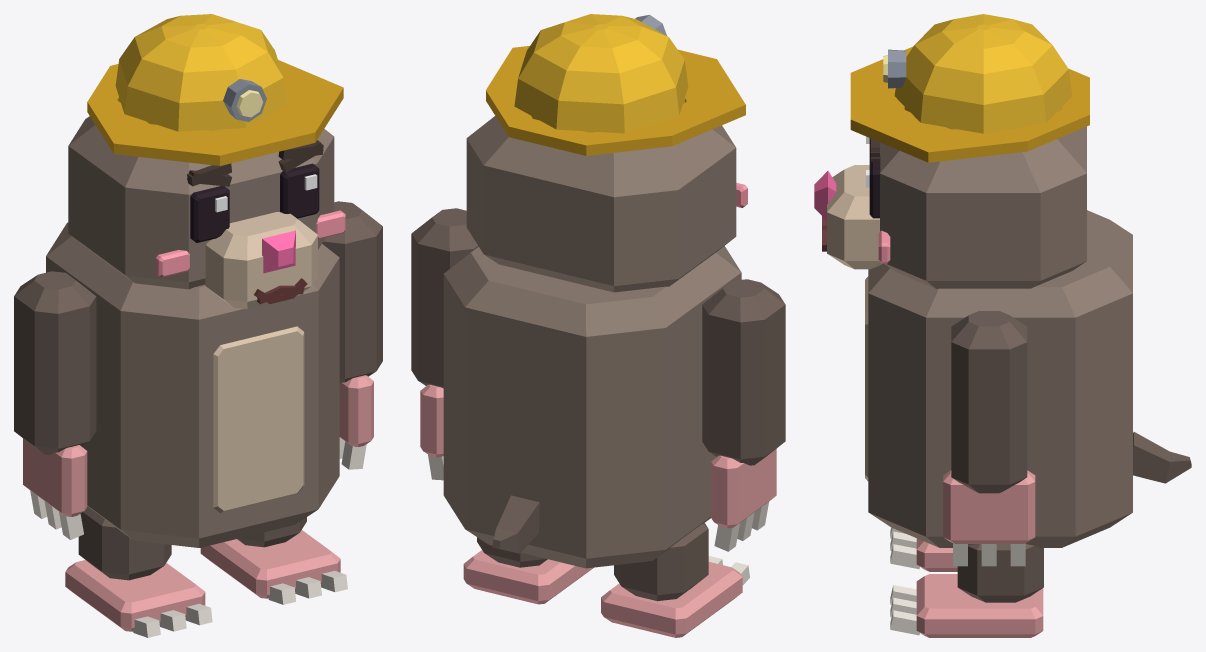
File: w3_secretenemy_gemmole.fbx
3 views of the same model, side by side, from view 1: azimuth 30°, elevation 25°; view 2: azimuth 150°, elevation 25°; view 3: azimuth 270°, elevation 25° (orthographic).
Parts seen in each view (by area): view 1: GemMole.Torso, GemMole.Head, GemMole.Belly, GemMole.Hat, GemMole.RightArm, GemMole.Brim, GemMole.LeftArm, GemMole.Snout, GemMole.RightFoot, GemMole.LeftFoot, GemMole.RightLeg, GemMole.RightPaw (+13 smaller); view 2: GemMole.Torso, GemMole.Head, GemMole.Hat, GemMole.RightArm, GemMole.Brim, GemMole.LeftArm, GemMole.RightFoot, GemMole.RightLeg, GemMole.LeftFoot, GemMole.RightPaw, GemMole.Tail, GemMole.LeftPaw (+2 smaller); view 3: GemMole.Torso, GemMole.Head, GemMole.Hat, GemMole.LeftArm, GemMole.Brim, GemMole.LeftFoot, GemMole.LeftPaw, GemMole.Snout, GemMole.LeftLeg, GemMole.Tail, GemMole.LeftFootClaws, GemMole.LeftClaws (+6 smaller).
Boxes of the visible parts, x1,y1,x2,y2 form: GemMole.Torso: [46, 222, 339, 547]; GemMole.Head: [68, 116, 334, 289]; GemMole.Belly: [213, 326, 304, 513]; GemMole.Hat: [115, 14, 286, 131]; GemMole.RightArm: [14, 271, 96, 454]; GemMole.Brim: [87, 60, 343, 165]; GemMole.LeftArm: [322, 201, 382, 383]; GemMole.Snout: [205, 212, 317, 309]; GemMole.RightFoot: [65, 560, 205, 631]; GemMole.LeftFoot: [200, 530, 340, 598]; GemMole.RightLeg: [78, 506, 171, 580]; GemMole.RightPaw: [23, 438, 87, 516]; GemMole.Torso: [443, 246, 741, 568]; GemMole.Head: [466, 116, 736, 292]; GemMole.Hat: [514, 14, 688, 133]; GemMole.RightArm: [702, 279, 785, 465]; GemMole.Brim: [486, 46, 745, 155]; GemMole.LeftArm: [411, 208, 478, 388]; GemMole.RightFoot: [601, 562, 742, 637]; GemMole.RightLeg: [614, 522, 708, 601]; GemMole.LeftFoot: [463, 550, 593, 604]; GemMole.RightPaw: [711, 449, 776, 528]; GemMole.Tail: [492, 495, 539, 553]; GemMole.LeftPaw: [420, 384, 443, 457]; GemMole.Torso: [868, 210, 1132, 547]; GemMole.Head: [880, 126, 1086, 288]; GemMole.Hat: [894, 14, 1072, 133]; GemMole.LeftArm: [951, 311, 1027, 493]; GemMole.Brim: [850, 46, 1089, 162]; GemMole.LeftFoot: [916, 574, 1043, 637]; GemMole.LeftPaw: [943, 470, 1035, 543]; GemMole.Snout: [827, 165, 881, 269]; GemMole.LeftLeg: [957, 544, 1043, 602]; GemMole.Tail: [1133, 432, 1191, 483]; GemMole.LeftFootClaws: [890, 585, 919, 635]; GemMole.LeftClaws: [953, 543, 1025, 566].
Bounding box in the file's own units: 3.5 × 5.37 × 3.28.
